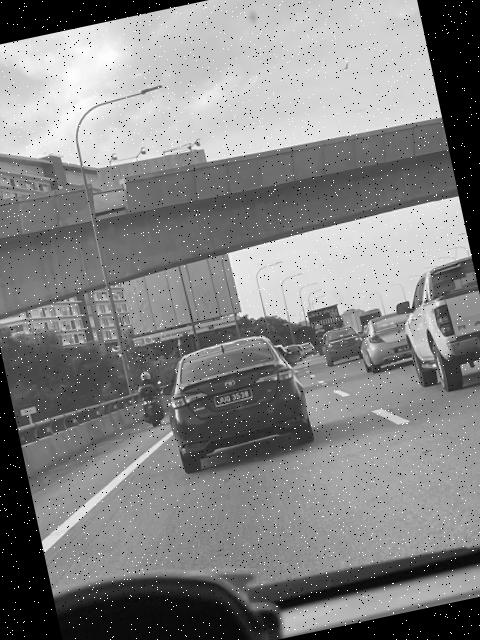License_Plate: (209, 386, 255, 410)
car: (161, 327, 318, 470), (391, 268, 480, 398), (357, 302, 447, 377), (324, 324, 370, 369)
